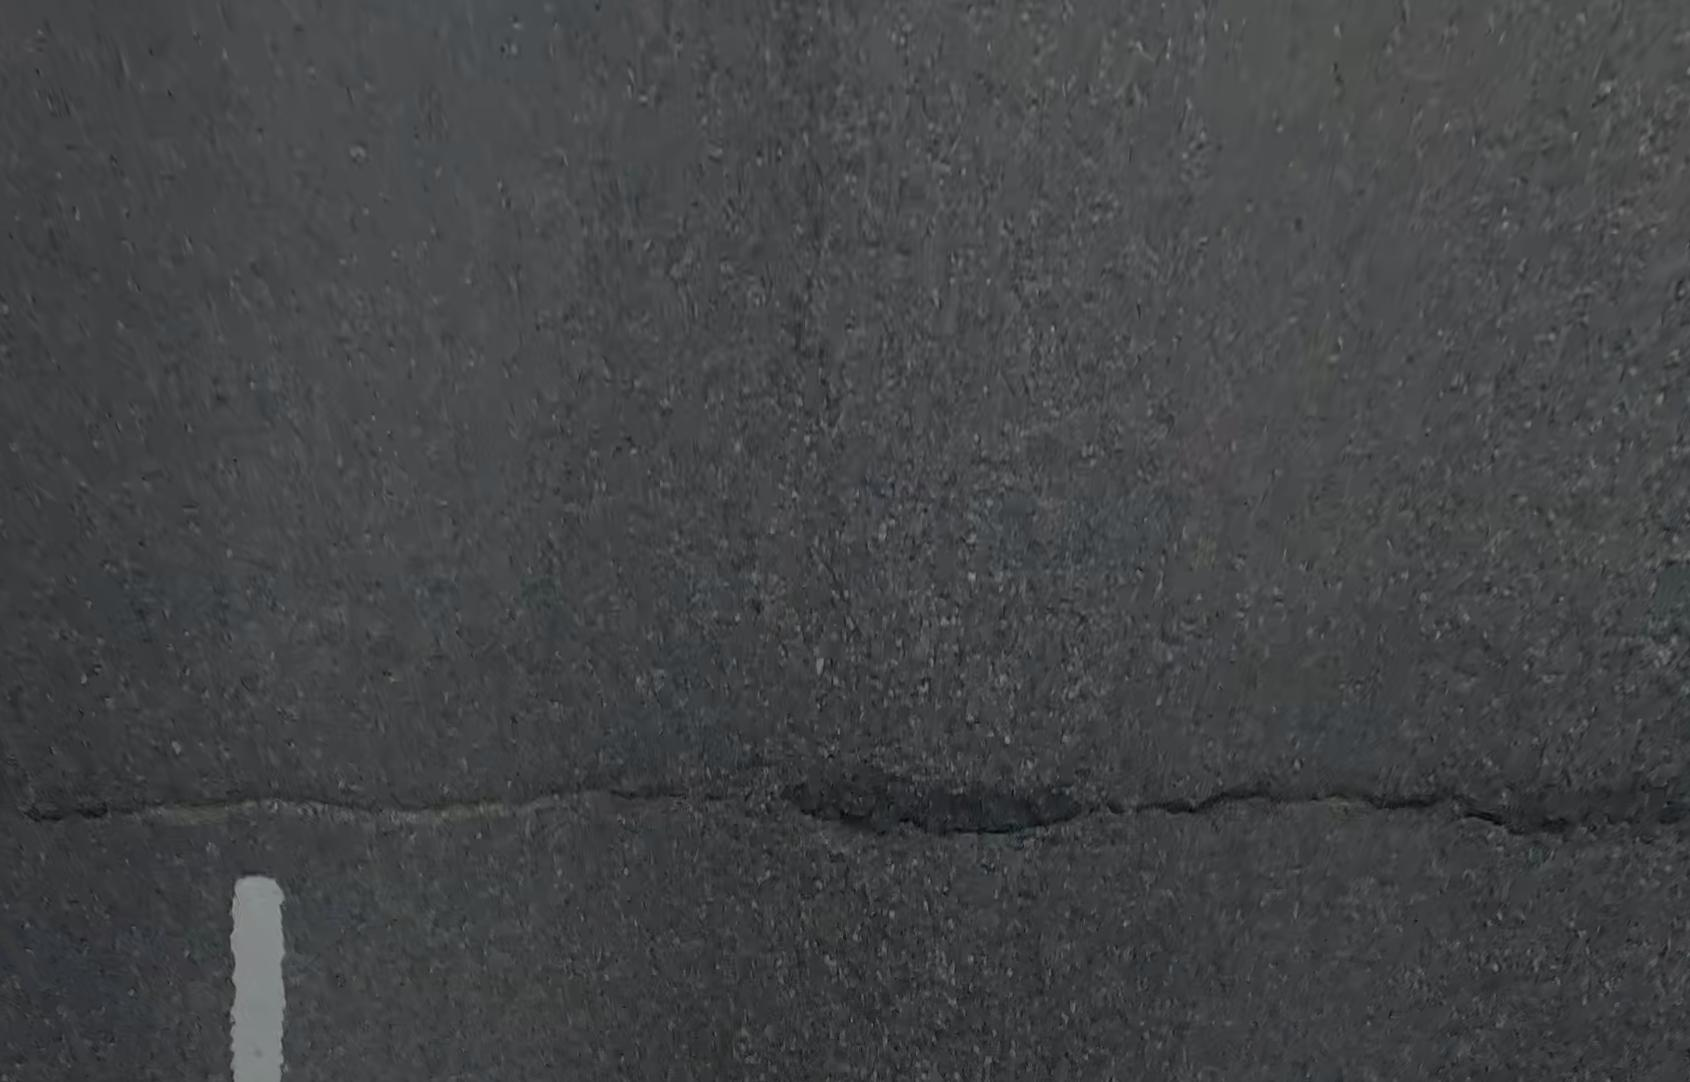pothole: (793, 769, 1095, 838)
